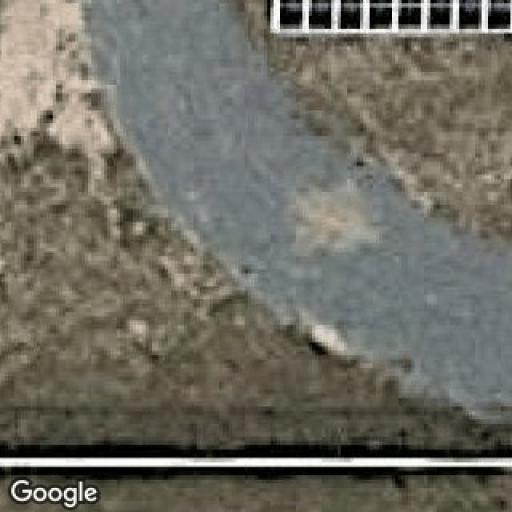solar-panel: (265, 0, 512, 35)
